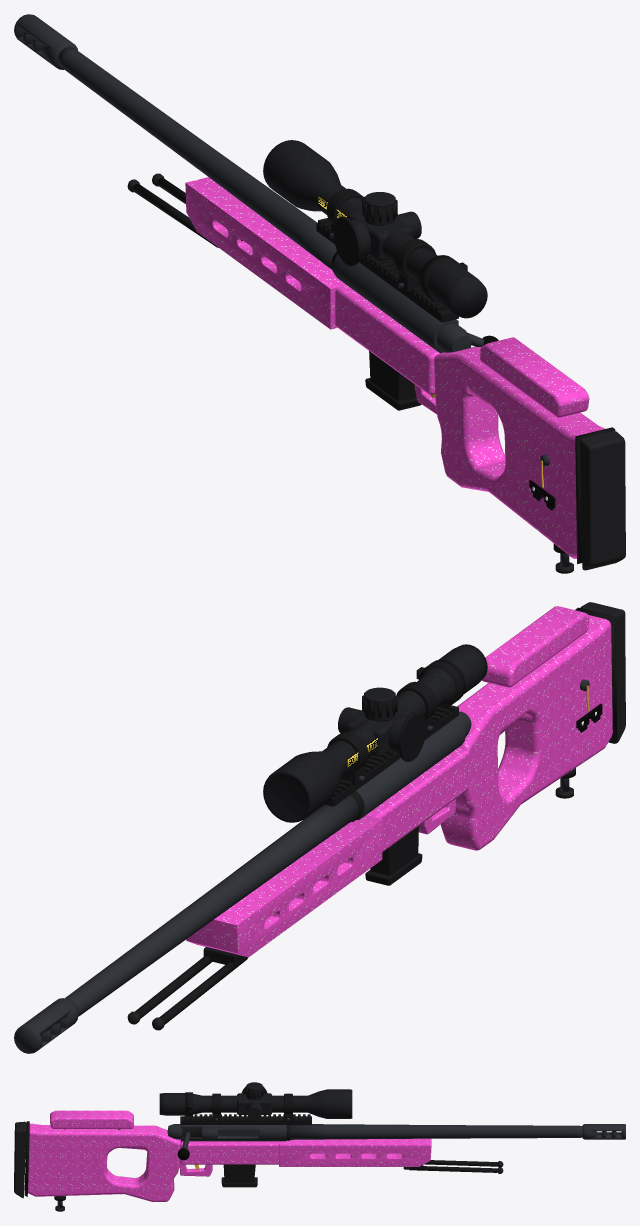
File: w_sniper.glb
3 renders of one model, top to bottom at view 1: azimuth 30°, elevation 25°; view 2: azimuth 150°, elevation 25°; view 3: azimuth 270°, elevation 25°, orthographic. The views are drawn at different scales.
Parts seen in each view (by area): view 1: sniper_body_wzA, sniper_body_wzB, bolt_wzB; view 2: sniper_body_wzA, sniper_body_wzB, sniper_body_wzN; view 3: sniper_body_wzA, sniper_body_wzB, bolt_wzB.
Boxes of the visible parts, x1,y1,x2,y2 form: sniper_body_wzA: [127, 173, 625, 573]; sniper_body_wzB: [14, 14, 615, 564]; bolt_wzB: [437, 323, 498, 352]; sniper_body_wzA: [127, 602, 625, 1030]; sniper_body_wzB: [14, 607, 617, 1053]; sniper_body_wzN: [347, 685, 602, 813]; sniper_body_wzA: [14, 1110, 503, 1211]; sniper_body_wzB: [24, 1082, 625, 1201]; bolt_wzB: [167, 1124, 190, 1160].
Size of the model in its own units: 0.1779 by 0.4651 by 2.08.
12 materials, 3 textured.
